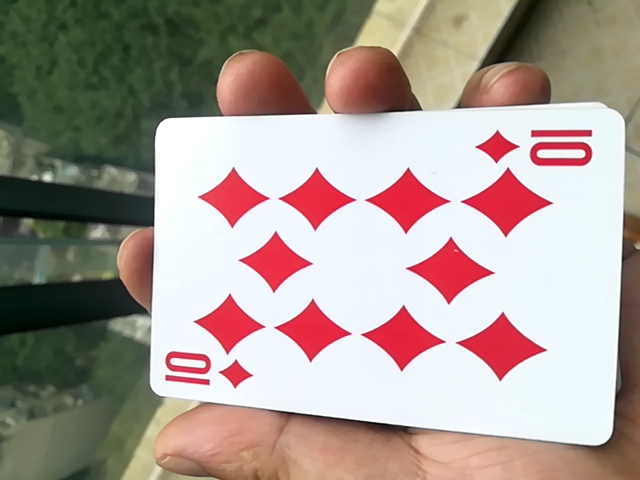fk 10: (134, 112, 623, 455)
